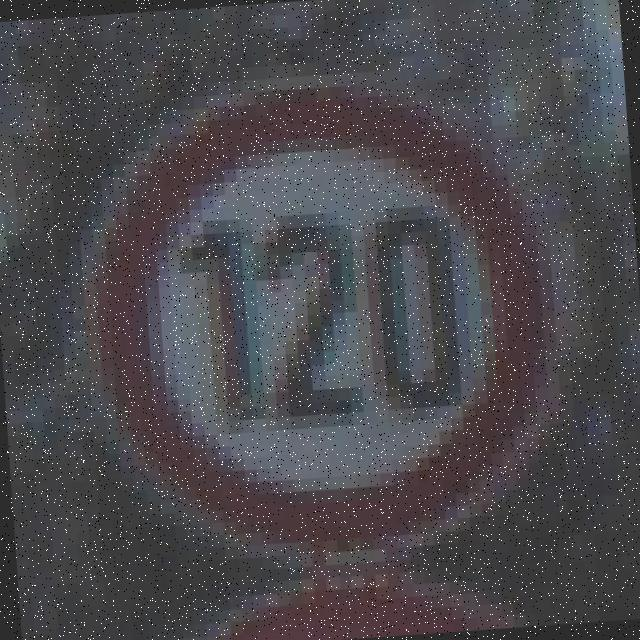Ograniczenie predkosci do 120: (73, 63, 572, 572)
